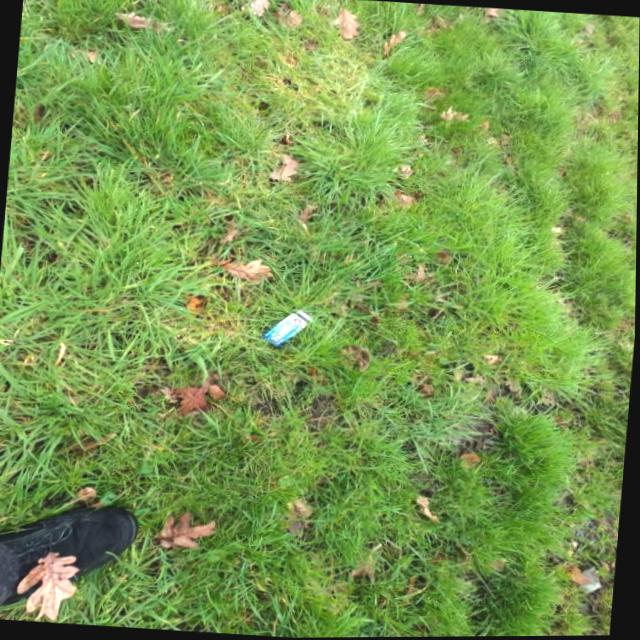Plastic: (258, 307, 315, 350)
